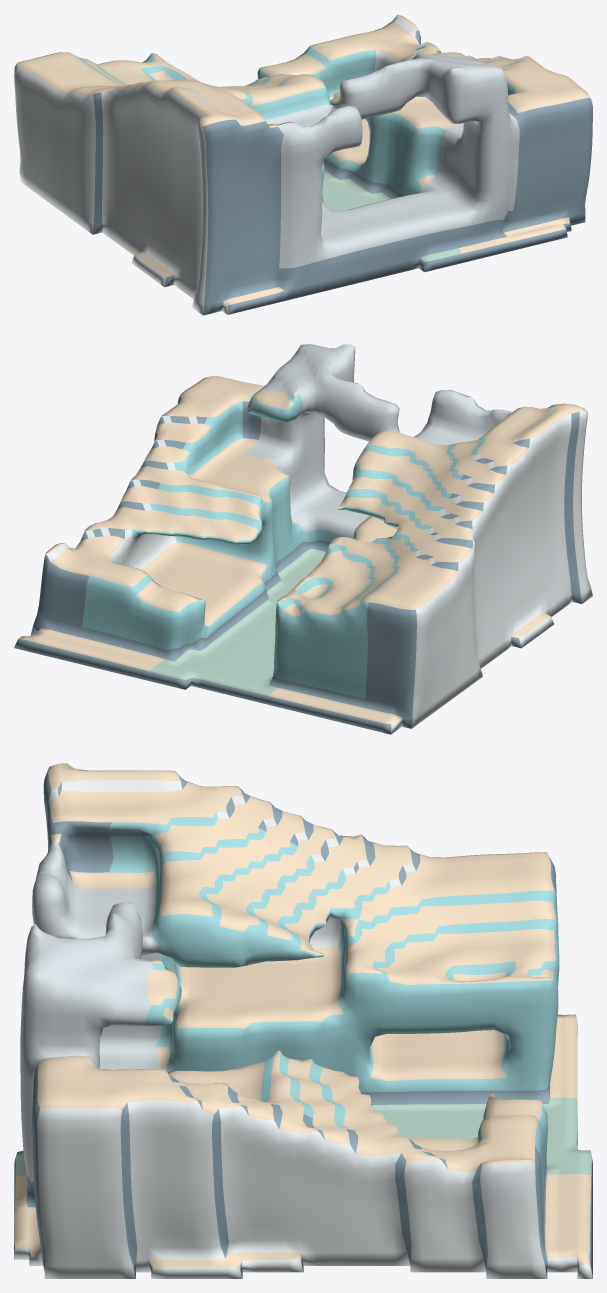
File: a35_curved_integral_city.glb
3 renders of one model, top to bottom at view 1: azimuth 30°, elevation 25°; view 2: azimuth 150°, elevation 25°; view 3: azimuth 270°, elevation 25°, orthographic. The views are drawn at different scales.
Parts seen in each view (by area): view 1: A35 Curvature Study -- ART HOLD; view 2: A35 Curvature Study -- ART HOLD; view 3: A35 Curvature Study -- ART HOLD.
Part boxes in pixels (x1,y1,x2,y2): A35 Curvature Study -- ART HOLD: (14,14,592,315); A35 Curvature Study -- ART HOLD: (14,344,592,734); A35 Curvature Study -- ART HOLD: (14,763,592,1278).
Size of the model in its own units: 420 by 191 by 380.
